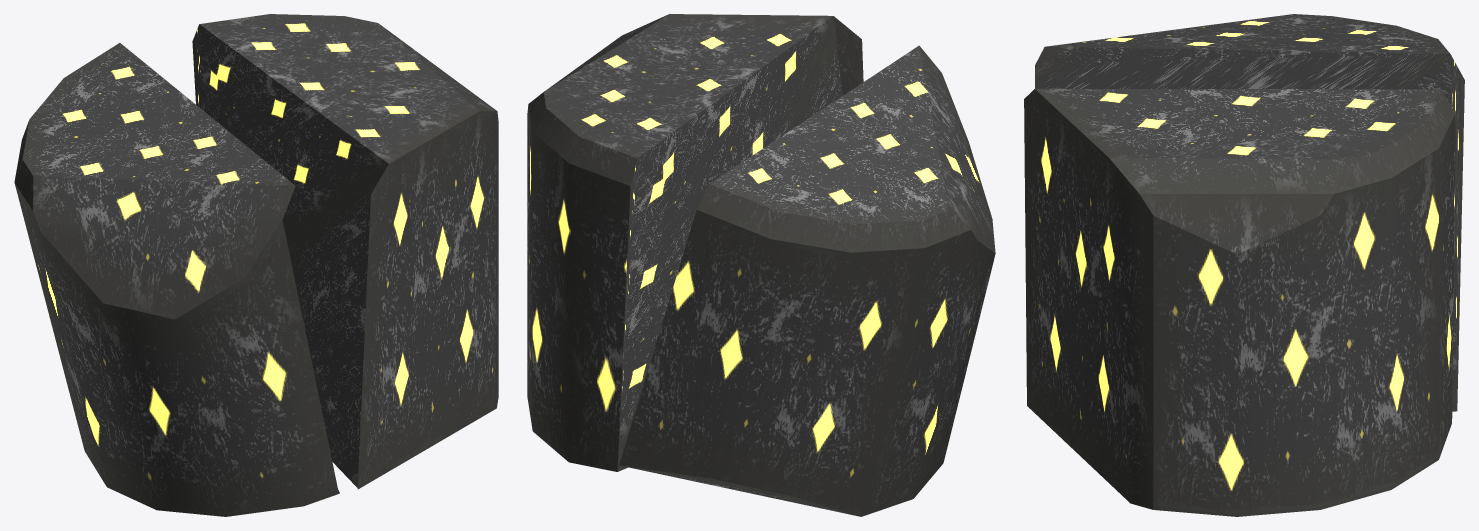
Rendered from CutCore.fbx.
3 views of the same model, side by side, from view 1: azimuth 30°, elevation 25°; view 2: azimuth 150°, elevation 25°; view 3: azimuth 270°, elevation 25° (orthographic). The views are drawn at different scales.
Visible parts, largest first — view 1: SprayedCore, SprayedCore.001; view 2: SprayedCore, SprayedCore.001; view 3: SprayedCore.001, SprayedCore.
Part boxes in pixels (x1=…): SprayedCore: x1=14, y1=43, x2=339, y2=516; SprayedCore.001: x1=192, y1=14, x2=498, y2=489; SprayedCore: x1=619, y1=45, x2=995, y2=516; SprayedCore.001: x1=527, y1=14, x2=863, y2=471; SprayedCore.001: x1=1024, y1=88, x2=1455, y2=516; SprayedCore: x1=1035, y1=14, x2=1464, y2=411.
Bounding box in the file's own units: 239 × 190 × 202.
